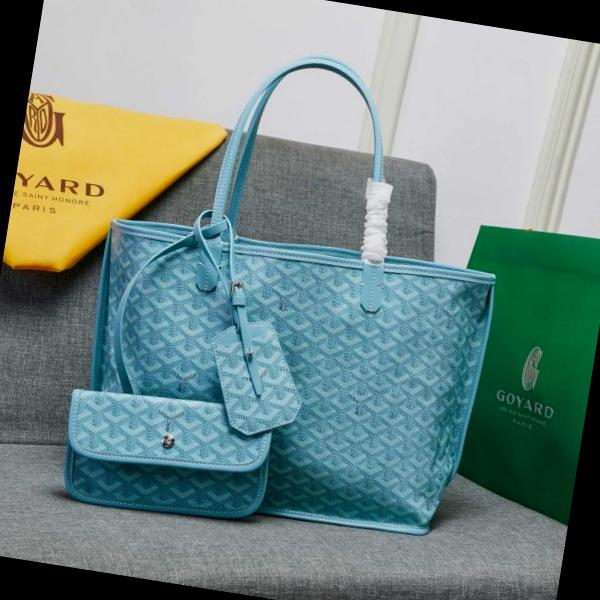GOYARD: (72, 228, 490, 534), (64, 382, 272, 520)
